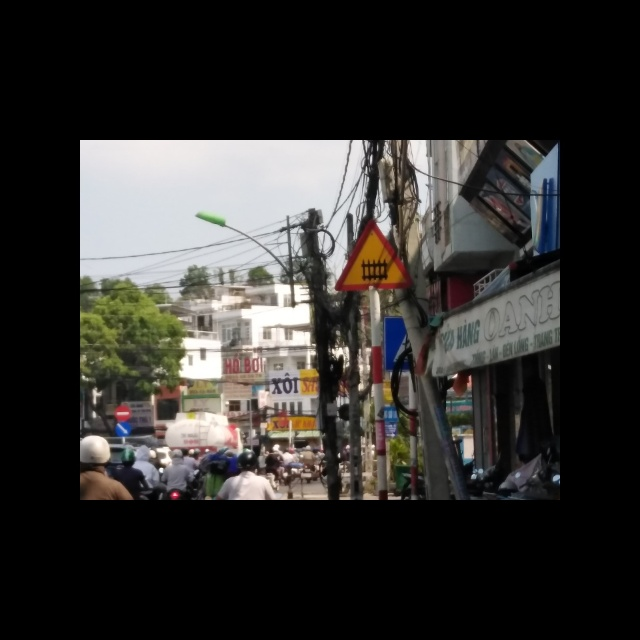Giao nhau với đường sắt có rào chắn: (335, 216, 415, 291)
